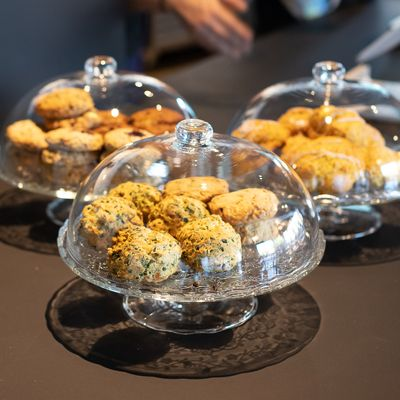sushi: (53, 123, 326, 343)
